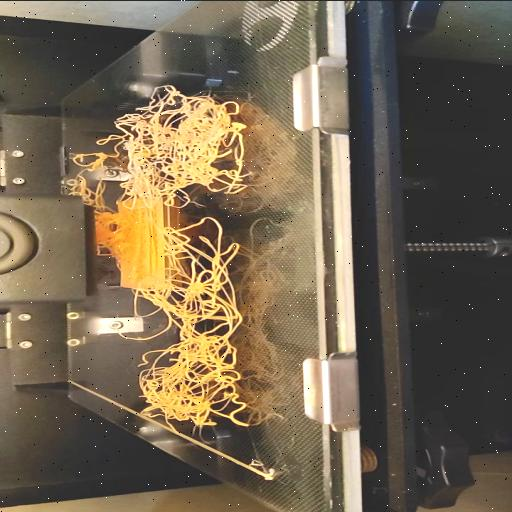spaghetti: (98, 84, 258, 428), (66, 146, 104, 196)
